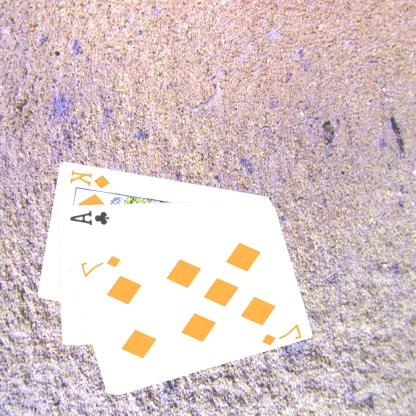7D: (80, 252, 124, 278), (260, 320, 304, 346)
AC: (69, 206, 112, 226)
KD: (68, 167, 113, 190)
